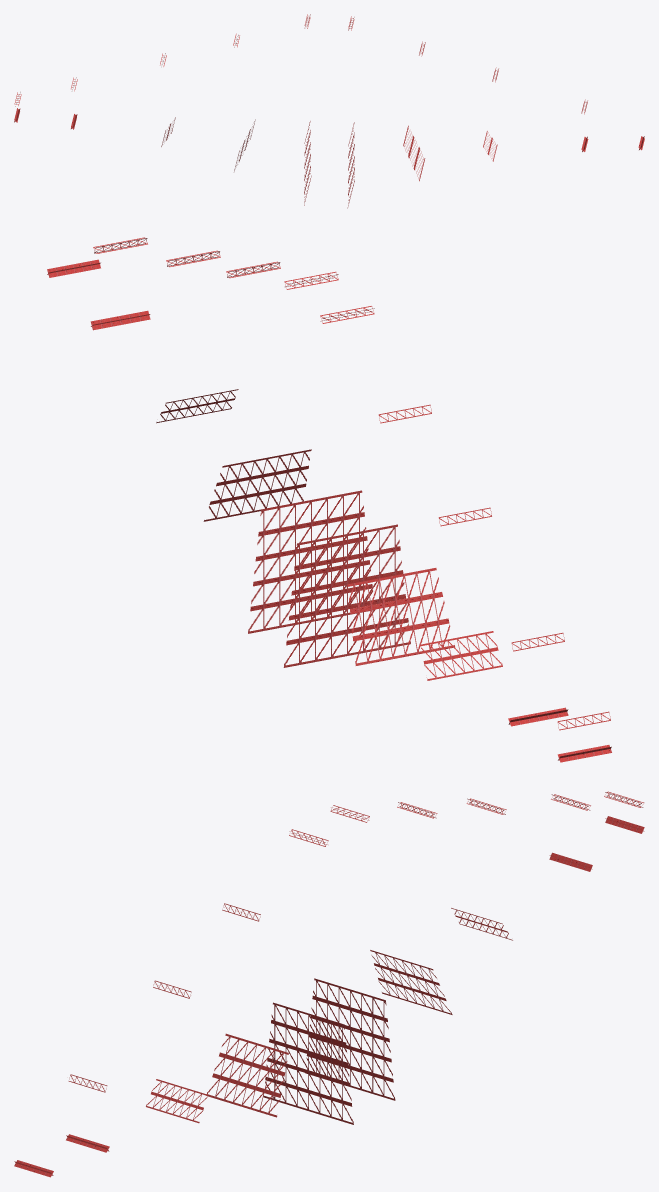
File: lodrailbge08_sfse.obj
The picture shows the model from 3 angles, top to bottom: view 1: azimuth 30°, elevation 25°; view 2: azimuth 150°, elevation 25°; view 3: azimuth 270°, elevation 25°; orthographic projection. The views are drawn at different scales.
Parts seen in each view (by area): view 1: LODrailbge08_sfse; view 2: LODrailbge08_sfse; view 3: LODrailbge08_sfse.
Part boxes in pixels (x1,y1,x2,y2): LODrailbge08_sfse: (14, 14, 644, 208); LODrailbge08_sfse: (47, 237, 611, 762); LODrailbge08_sfse: (14, 791, 644, 1177).
Size of the model in its own units: 224 by 80.61 by 167.
Materials: 1 (1 with a texture image).
